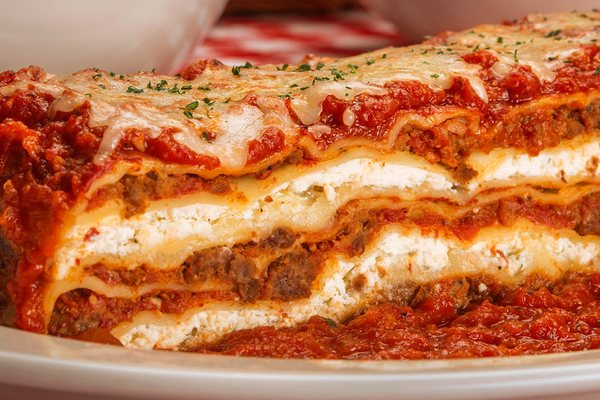sandwich: (2, 16, 600, 376)
